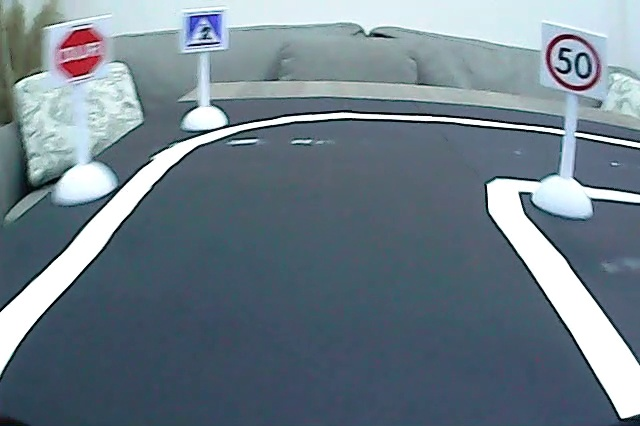pedestrian crossing: (185, 9, 226, 52)
speed limit 50: (544, 30, 604, 93)
stop sign: (51, 23, 108, 80)
